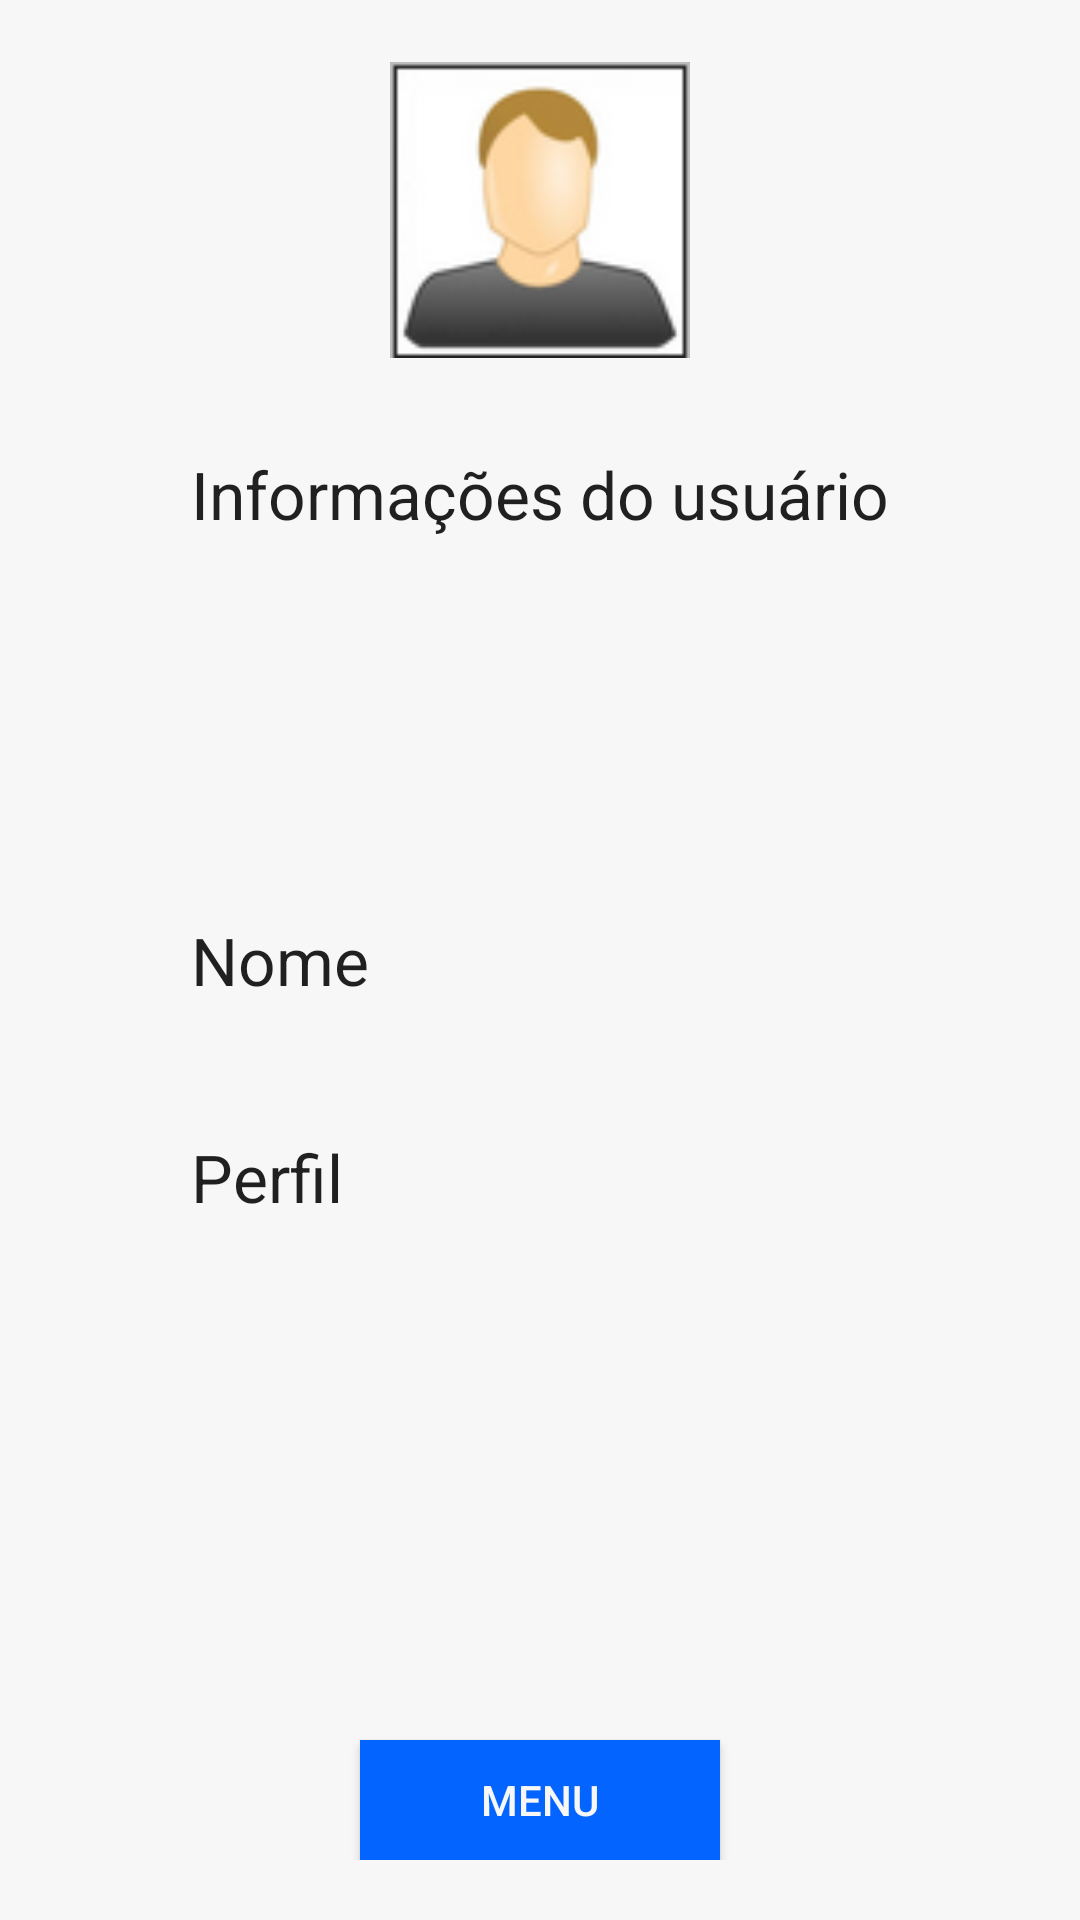

Locate icon controls on the screen. Image size 1080*1920, boxes as bbox=(x1, y1, x2, y2).
sisdo user: bbox=(390, 62, 690, 358)
